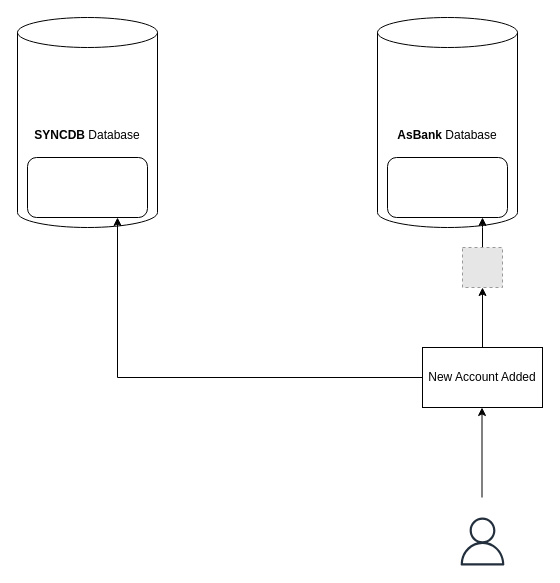
Image size: 560x583. Some labels were removed from this diagram. Grey dashed boxes stand in for pictures. The shapes that lost their labels are listed below. From the top down, each one's box as (x1, y1, x2, y2) in pixels, then its label:
(26, 156, 148, 218): AccountModifications Table
(386, 156, 508, 218): Accounts Table
